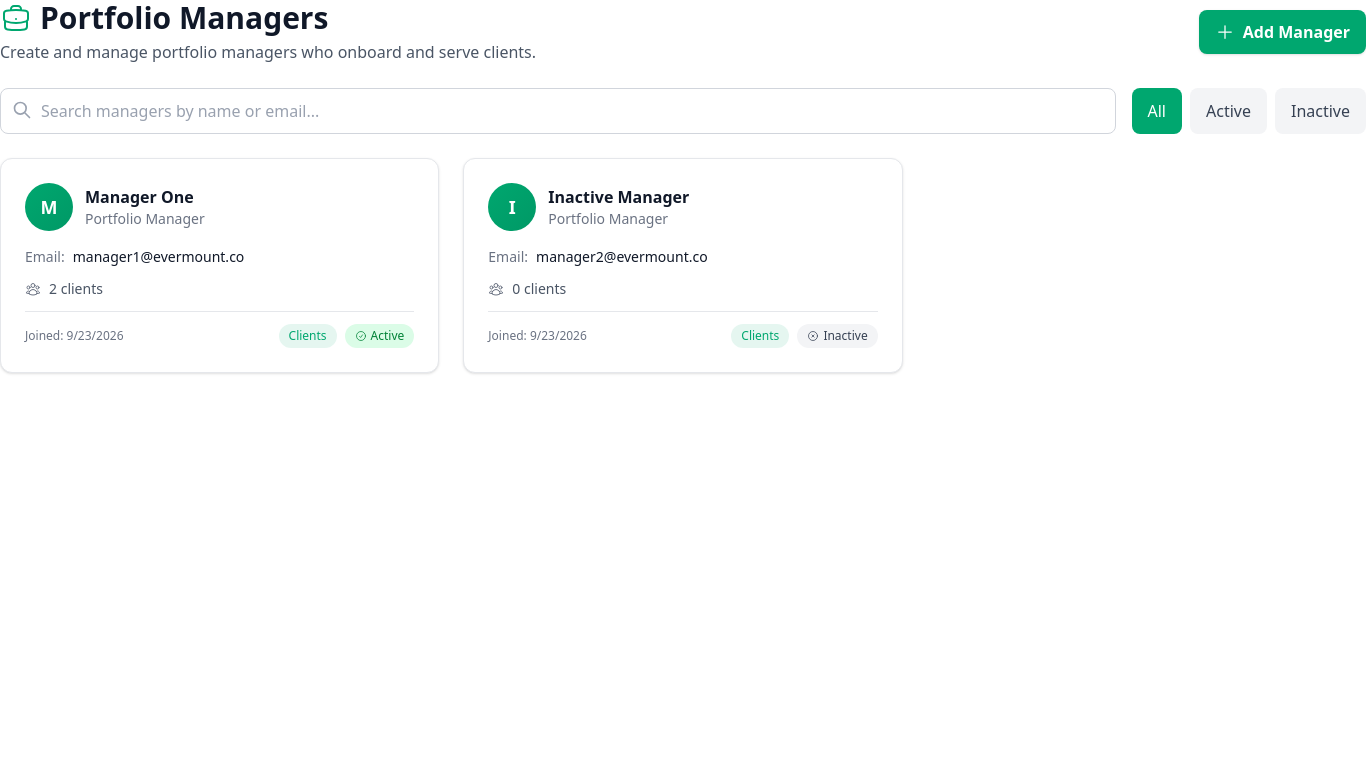
Test: AdminManagersPage › opens the Clients modal and loads that manager's clients
Expected: the heading "Manager One" is shown, [85,185,205,209]
Click the button "Clients" below "manager1@evermount.co" at (308, 336), box [278,324,336,348]
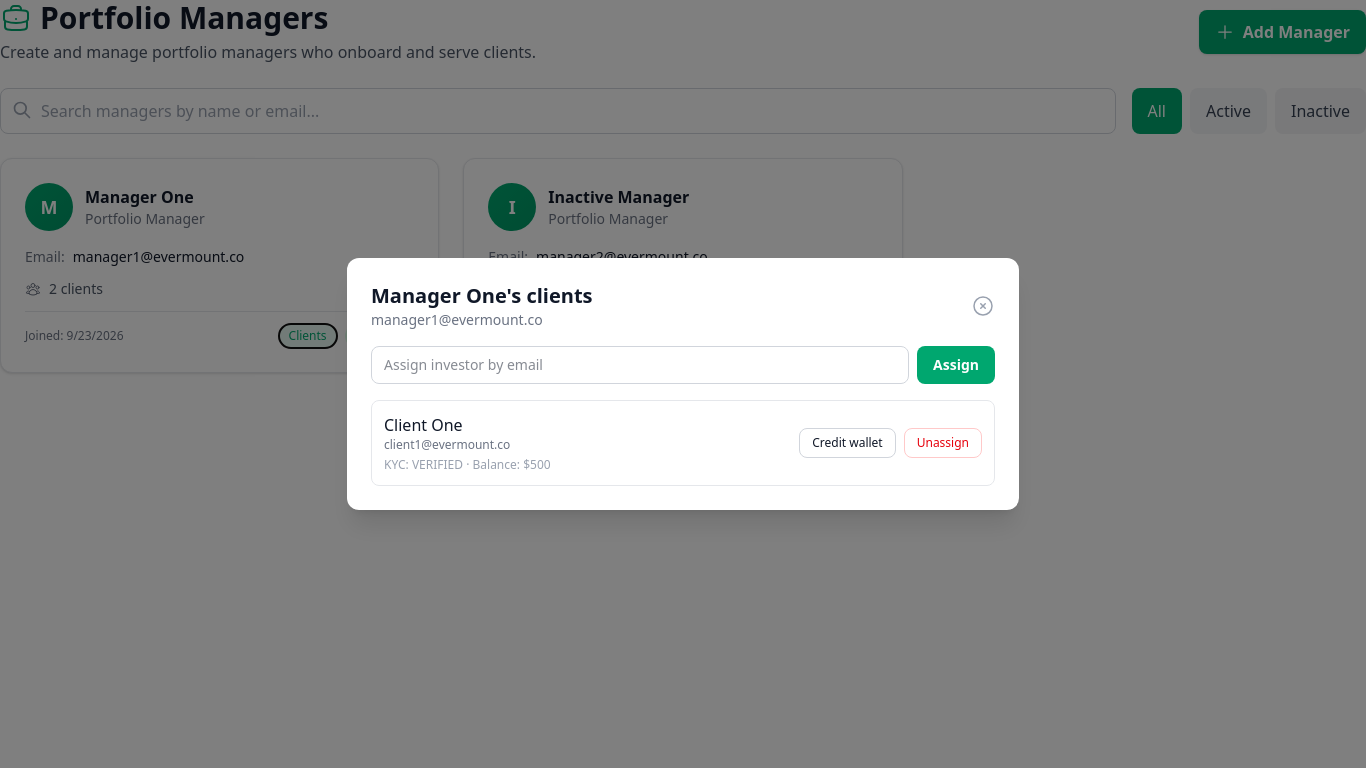
Expected: the text "Client One" is shown, [384,414,463,436]
